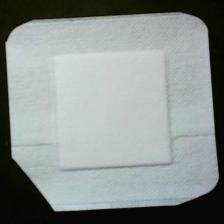Cut: (6, 11, 221, 215)
